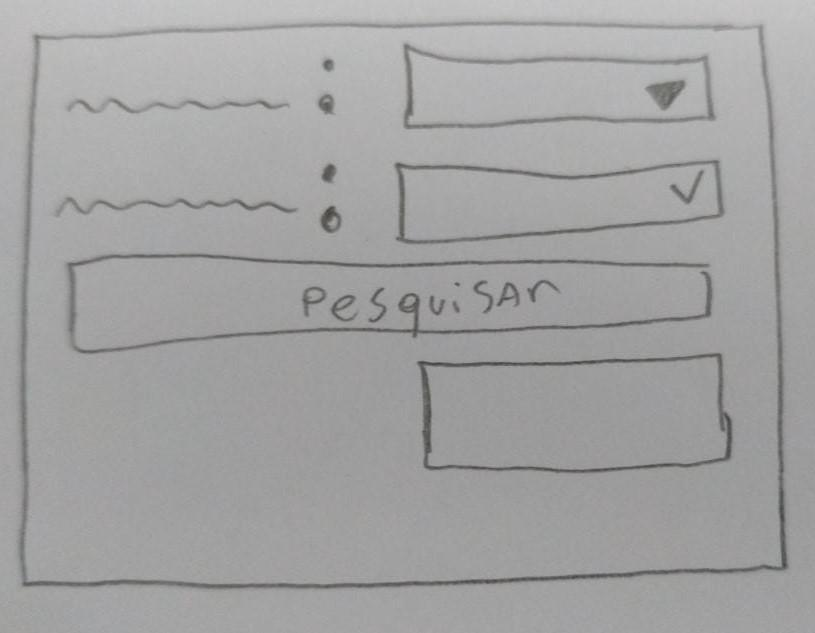Button: (62, 253, 714, 353)
Label: (56, 163, 344, 235), (67, 58, 336, 117)
ListPicker: (394, 159, 725, 245), (402, 44, 717, 130)
Screen: (18, 21, 789, 588)
TextBox: (417, 353, 732, 472)
